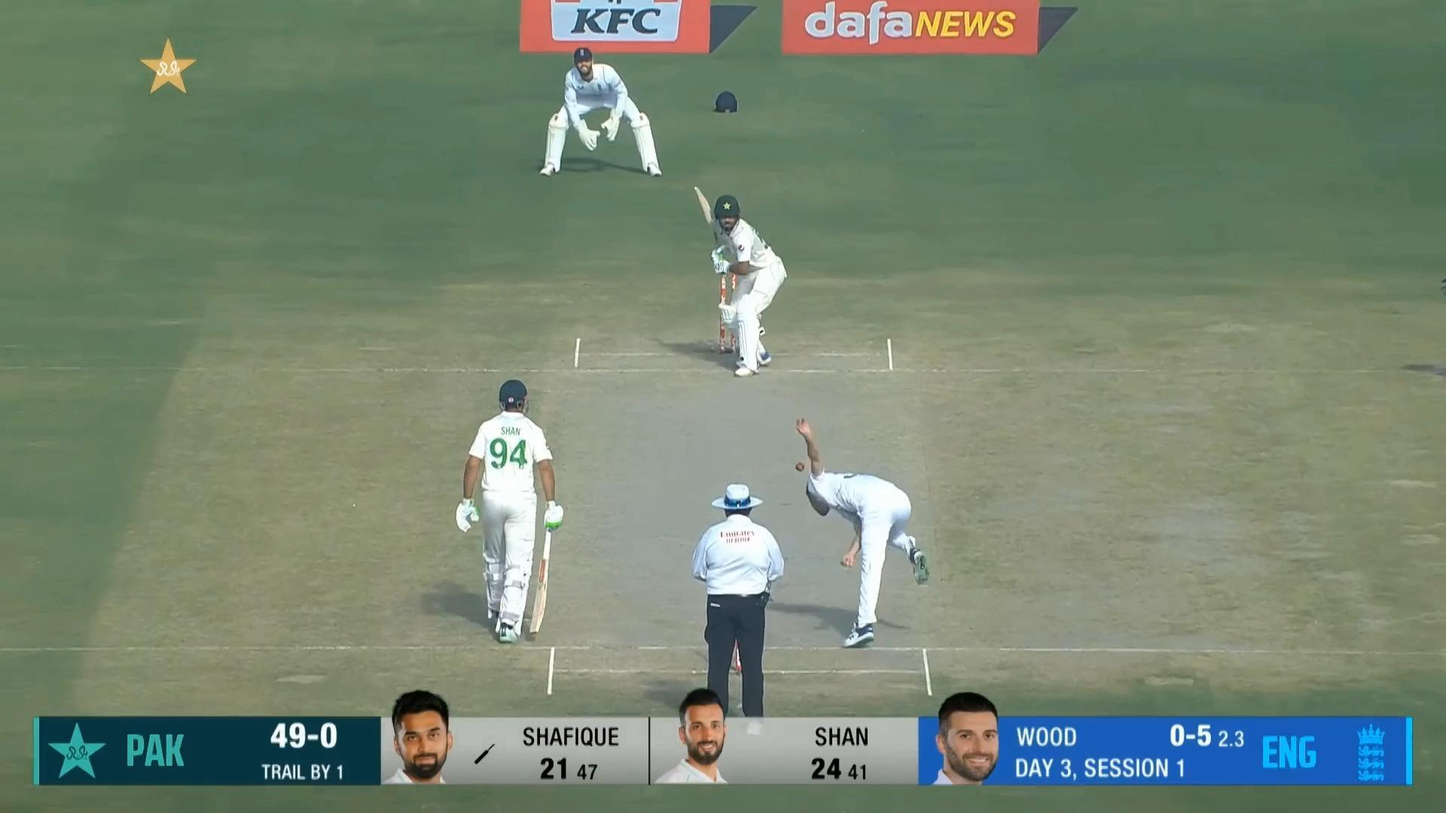BM 1: (706, 181, 791, 379)
BO: (793, 411, 931, 650)
